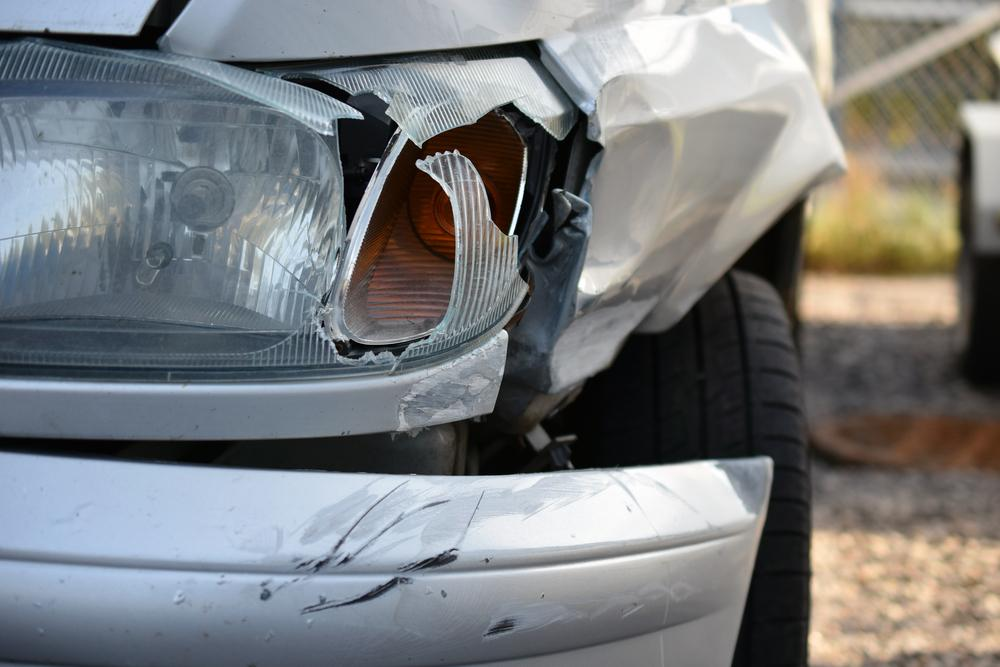dent: (585, 29, 792, 293)
lamp broken: (0, 42, 577, 376)
scratch: (247, 467, 716, 646), (388, 335, 508, 434)
